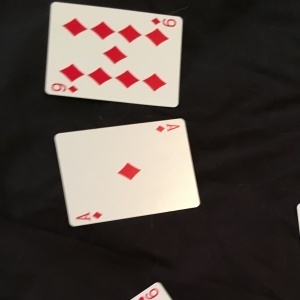card: (50, 119, 202, 230), (45, 1, 185, 107)
